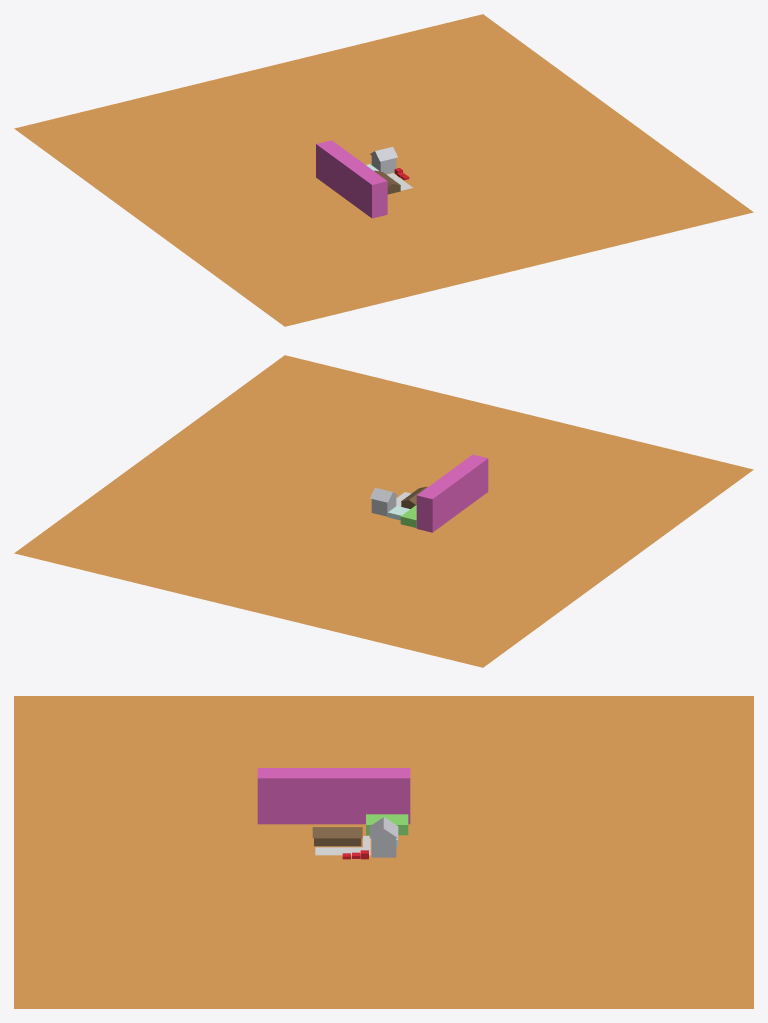
Rendered from test_field.gltf.
The picture shows the model from 3 angles, top to bottom: view 1: azimuth 30°, elevation 25°; view 2: azimuth 150°, elevation 25°; view 3: azimuth 270°, elevation 25°; orthographic projection. The views are drawn at different scales.
Parts seen in each view (by area): view 1: Plane, Cube.004, Cube; view 2: Plane, Cube.004, Cube; view 3: Plane, Cube.004, Cube, Cube.001, Cube.003.
Boxes of the visible parts, x1,y1,x2,y2 form: Plane: (14,14,753,326); Cube.004: (316,140,387,218); Cube: (370,146,397,174); Plane: (14,355,753,667); Cube.004: (416,454,488,532); Cube: (370,487,397,516); Plane: (14,696,753,1008); Cube.004: (257,768,410,824); Cube: (369,817,398,857); Cube.001: (312,827,362,846); Cube.003: (366,814,408,835).
Size of the model in its own units: 59.77 by 7.55 by 59.77.
